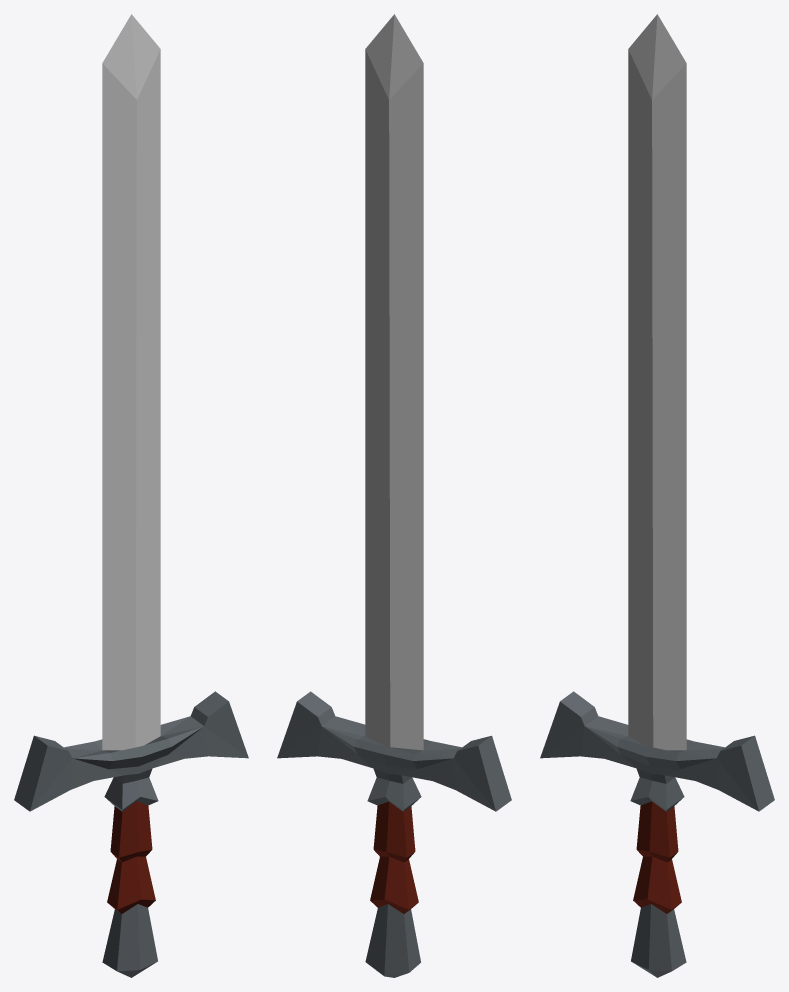
File: Longsword.glb
3 renders of one model, left to right at view 1: azimuth 30°, elevation 25°; view 2: azimuth 150°, elevation 25°; view 3: azimuth 330°, elevation 25°, orthographic.
Parts seen in each view (by area): view 1: Sword_02; view 2: Sword_02; view 3: Sword_02.
Part boxes in pixels (box(x1,y1,x2,y2)): Sword_02: box(14, 14, 248, 977); Sword_02: box(277, 14, 511, 977); Sword_02: box(540, 14, 774, 977).
Size of the model in its own units: 0.2906 by 1.22 by 0.0505.
Materials: 1 (1 with a texture image).
